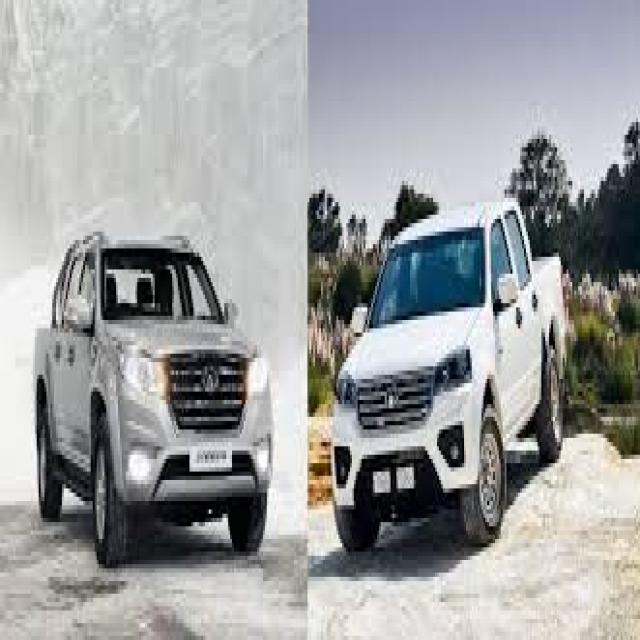Pickup Trucks: (332, 194, 570, 556), (34, 227, 274, 568)
